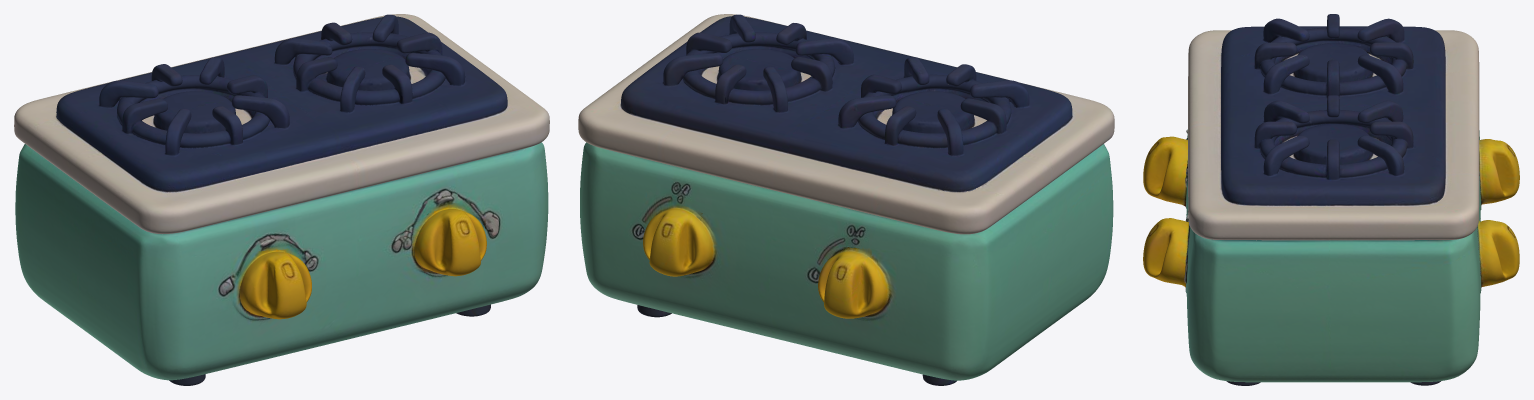
Rendered from StoveStation.glb.
3 views of the same model, side by side, from view 1: azimuth 30°, elevation 25°; view 2: azimuth 150°, elevation 25°; view 3: azimuth 270°, elevation 25° (orthographic). The views are drawn at different scales.
Visible parts, largest first — view 1: tripo_node_3579c6f3-ea21-45bf-a6c0-ec70901376ac; view 2: tripo_node_3579c6f3-ea21-45bf-a6c0-ec70901376ac; view 3: tripo_node_3579c6f3-ea21-45bf-a6c0-ec70901376ac.
Boxes of the visible parts, x1=… form: tripo_node_3579c6f3-ea21-45bf-a6c0-ec70901376ac: x1=14, y1=14, x2=549, y2=385; tripo_node_3579c6f3-ea21-45bf-a6c0-ec70901376ac: x1=578, y1=14, x2=1114, y2=385; tripo_node_3579c6f3-ea21-45bf-a6c0-ec70901376ac: x1=1143, y1=14, x2=1519, y2=385.
Size of the model in its own units: 1 by 0.5599 by 0.8332.
1 material, 1 textured.
